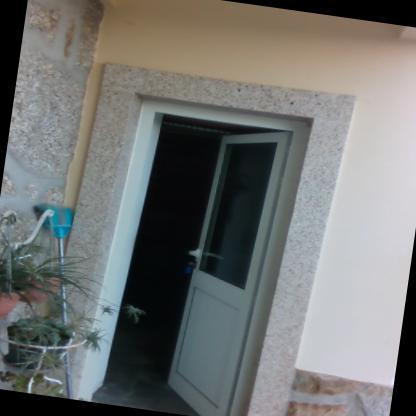semi: (81, 79, 322, 415)
